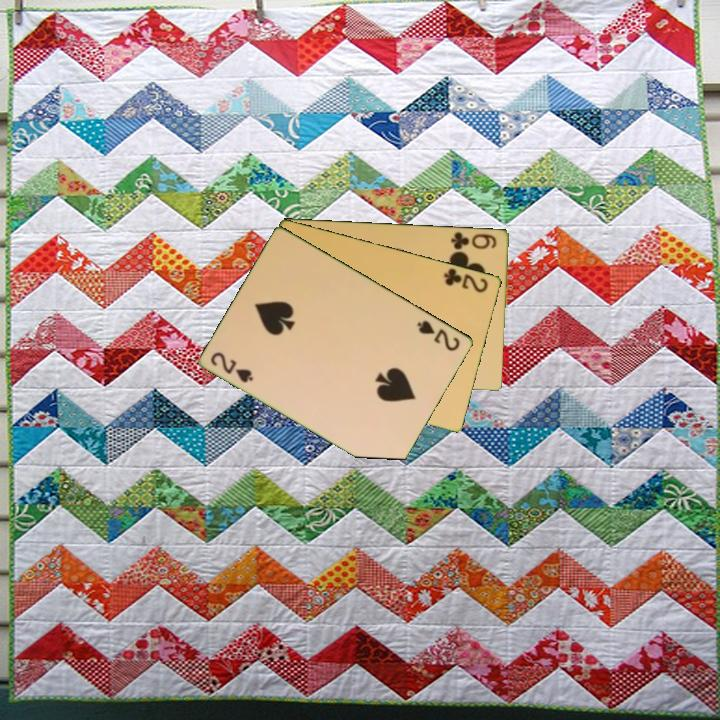2c: (440, 264, 491, 295)
2s: (207, 348, 257, 386), (414, 316, 463, 354)
6c: (448, 228, 500, 252)
